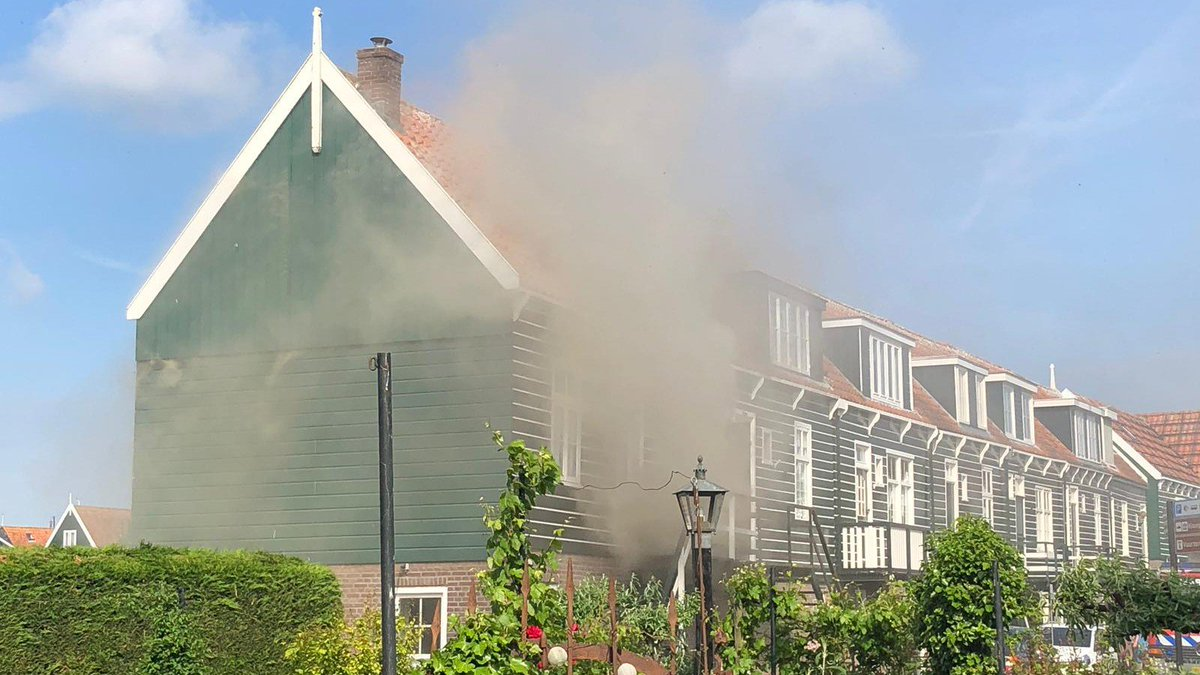smoke: (529, 194, 743, 553)
